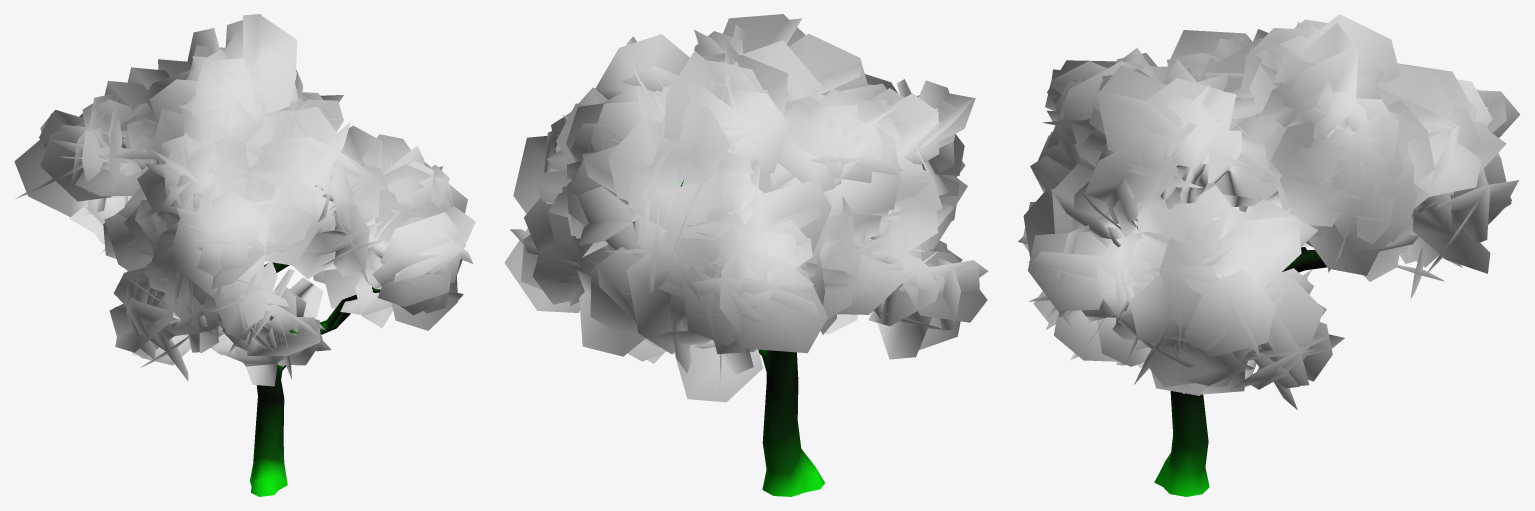
File: SM_OakTree1.FBX
3 renders of one model, left to right at view 1: azimuth 30°, elevation 25°; view 2: azimuth 150°, elevation 25°; view 3: azimuth 270°, elevation 25°, orthographic. The views are drawn at different scales.
Visible parts, largest first — view 1: SM_OakTree1_LOD0; view 2: SM_OakTree1_LOD0; view 3: SM_OakTree1_LOD0.
Part boxes in pixels (box(x1,y1,x2,y2)): SM_OakTree1_LOD0: box(14, 14, 475, 496); SM_OakTree1_LOD0: box(504, 14, 988, 496); SM_OakTree1_LOD0: box(1018, 14, 1520, 496).
Size of the model in its own units: 1322 by 1394 by 1488.
